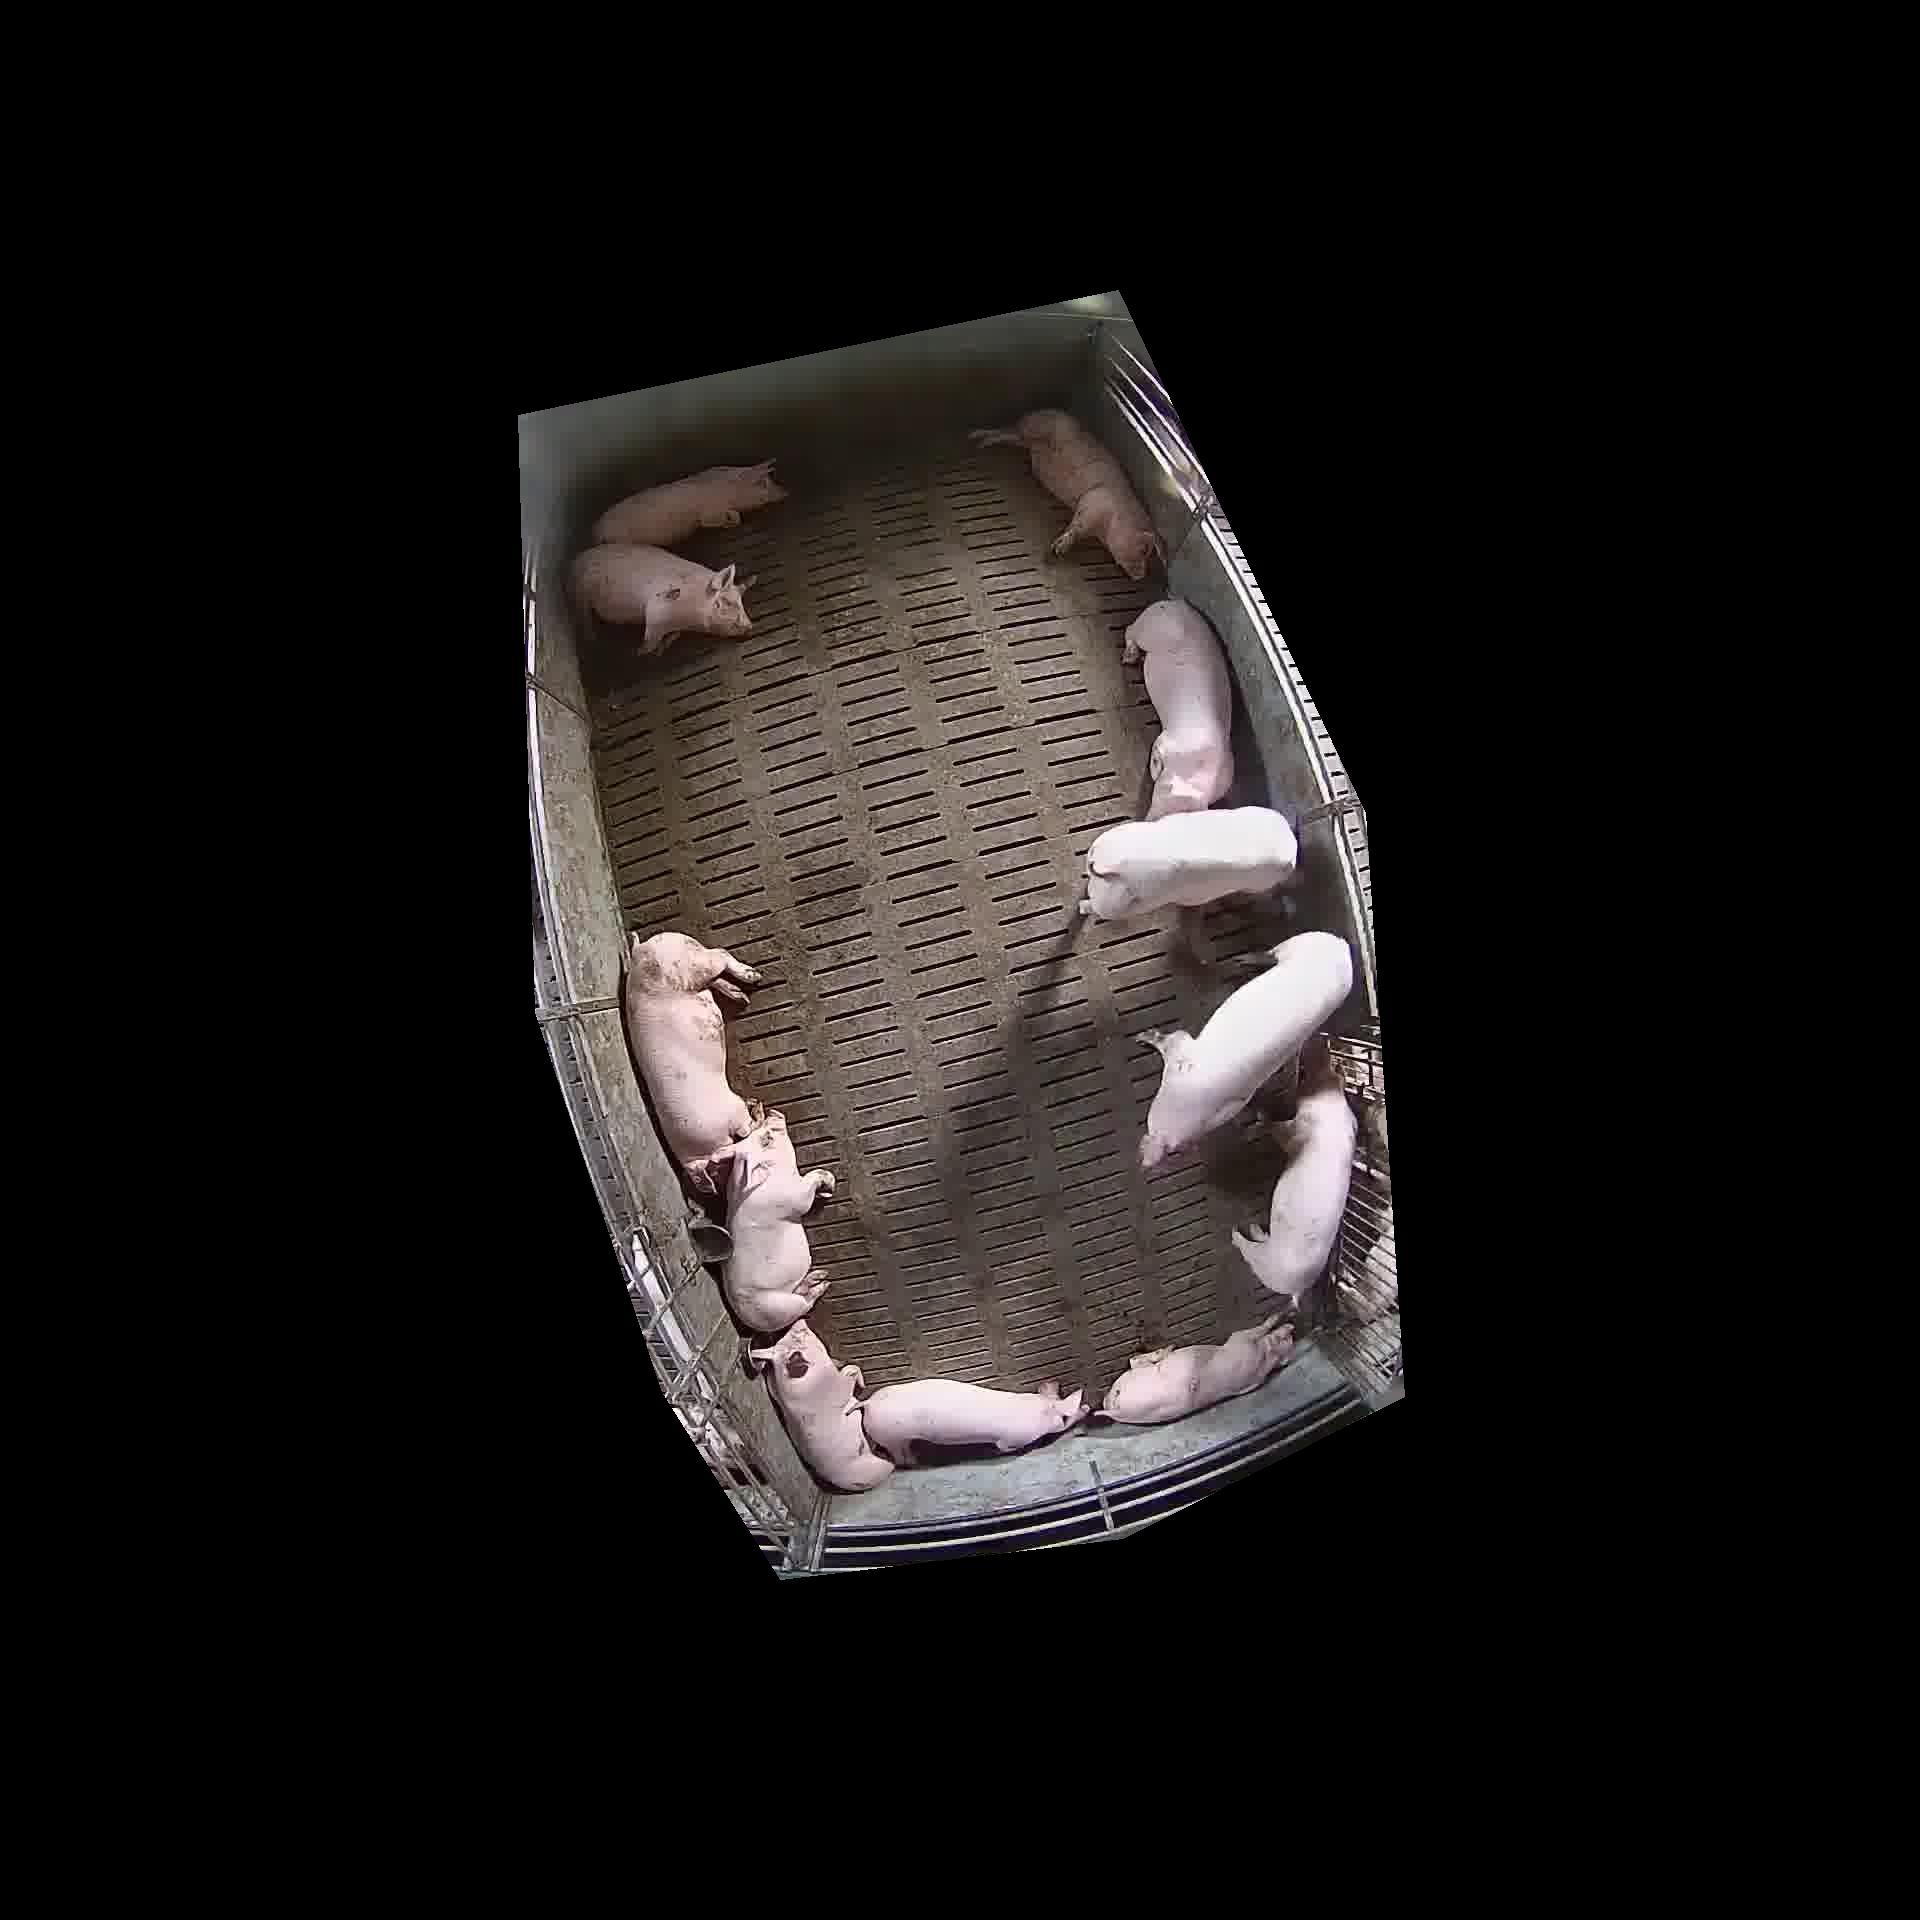pig: (1139, 932, 1352, 1166), (624, 932, 758, 1194), (971, 410, 1160, 578), (1233, 1039, 1356, 1299), (723, 1111, 833, 1333), (1081, 805, 1298, 918), (751, 1320, 893, 1491), (1124, 600, 1233, 819), (1101, 1317, 1292, 1422), (571, 543, 751, 652), (863, 1378, 1088, 1465), (593, 461, 786, 547)
